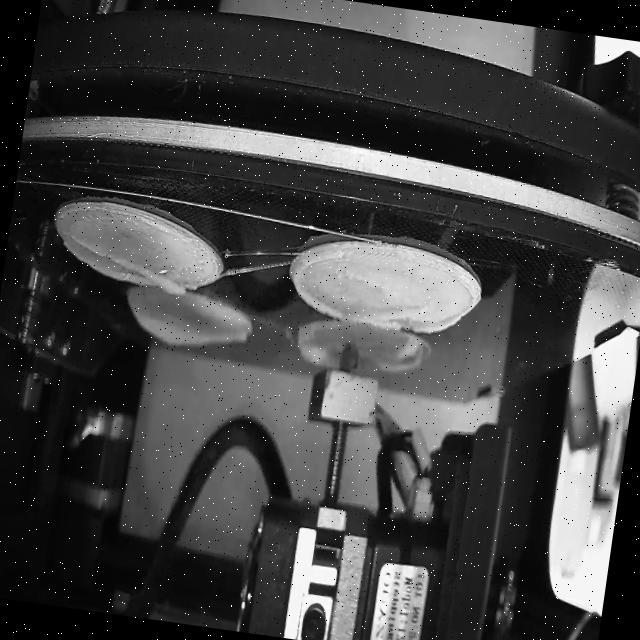over_extrusion: (65, 234, 194, 300), (128, 308, 250, 359), (352, 292, 466, 340), (286, 246, 352, 320), (292, 324, 338, 366)
